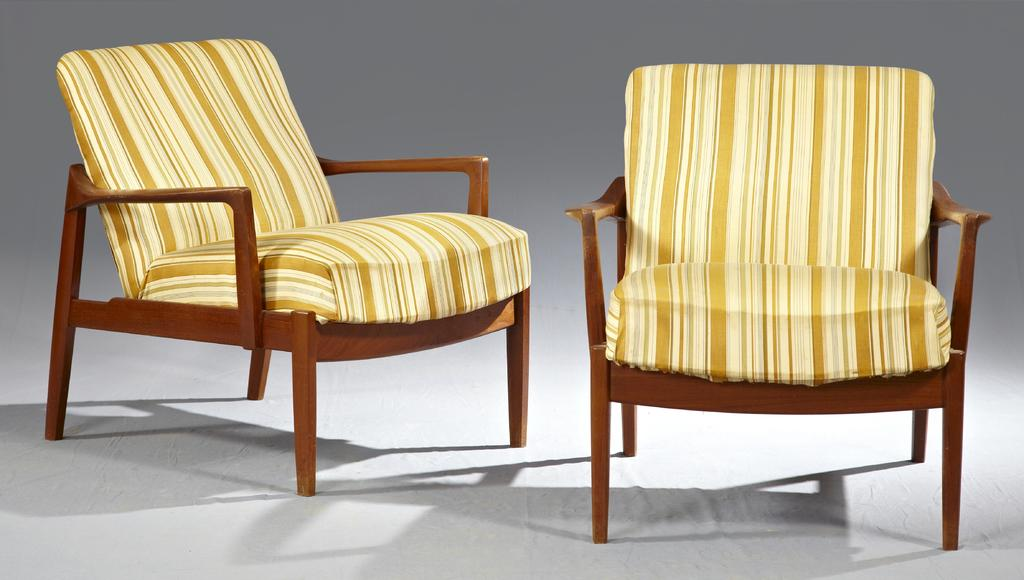Chair: (50, 36, 534, 503), (562, 60, 1000, 547)
